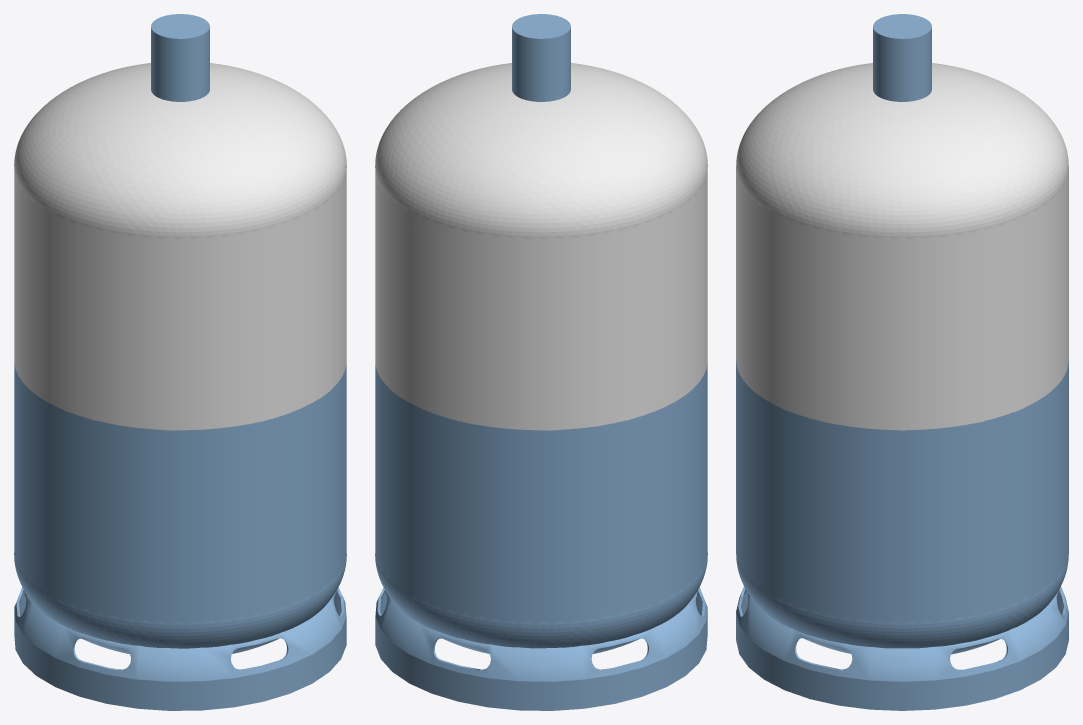
The model's file is gaz.obj.
3 views of the same model, side by side, from view 1: azimuth 30°, elevation 25°; view 2: azimuth 150°, elevation 25°; view 3: azimuth 270°, elevation 25° (orthographic).
Visible parts, largest first — view 1: Bas, Haut, Haut_rond, Base, Bas_rond, Bouchon; view 2: Bas, Haut, Haut_rond, Base, Bas_rond, Bouchon; view 3: Bas, Haut, Haut_rond, Base, Bas_rond, Bouchon.
Boxes of the visible parts, x1=… form: Bas: x1=14, y1=364, x2=346, y2=624; Haut: x1=14, y1=171, x2=346, y2=430; Haut_rond: x1=14, y1=63, x2=346, y2=239; Base: x1=14, y1=587, x2=346, y2=710; Bas_rond: x1=14, y1=553, x2=346, y2=654; Bouchon: x1=151, y1=14, x2=209, y2=101; Bas: x1=375, y1=364, x2=707, y2=624; Haut: x1=375, y1=171, x2=707, y2=430; Haut_rond: x1=375, y1=63, x2=707, y2=239; Base: x1=375, y1=587, x2=707, y2=710; Bas_rond: x1=375, y1=553, x2=707, y2=653; Bouchon: x1=512, y1=14, x2=570, y2=101; Bas: x1=736, y1=360, x2=1068, y2=624; Haut: x1=736, y1=166, x2=1068, y2=430; Haut_rond: x1=736, y1=63, x2=1068, y2=239; Base: x1=736, y1=586, x2=1068, y2=710; Bas_rond: x1=736, y1=554, x2=1068, y2=654; Bouchon: x1=873, y1=14, x2=931, y2=101.
Bounding box in the file's own units: 31 × 63.15 × 31.
